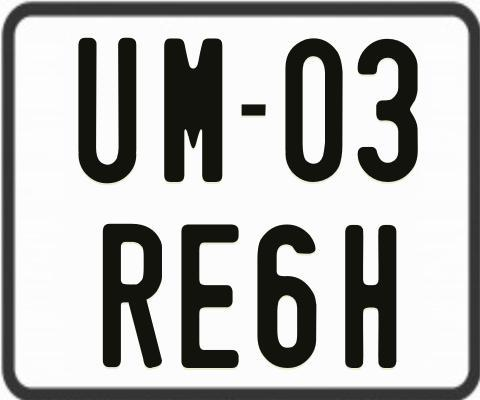0: (285, 35, 347, 183)
3: (358, 39, 424, 182)
6: (254, 225, 317, 374)
E: (181, 222, 239, 365)
H: (342, 224, 398, 367)
M: (164, 38, 225, 185)
R: (102, 221, 167, 371)
U: (78, 36, 141, 182)
